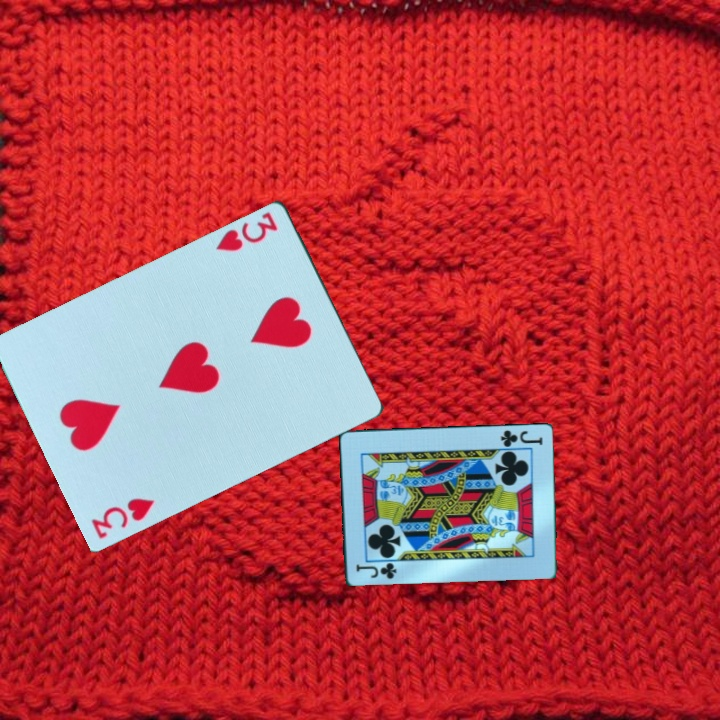3h: (87, 493, 158, 541), (212, 208, 281, 254)
Jc: (497, 426, 545, 450), (352, 560, 399, 582)
